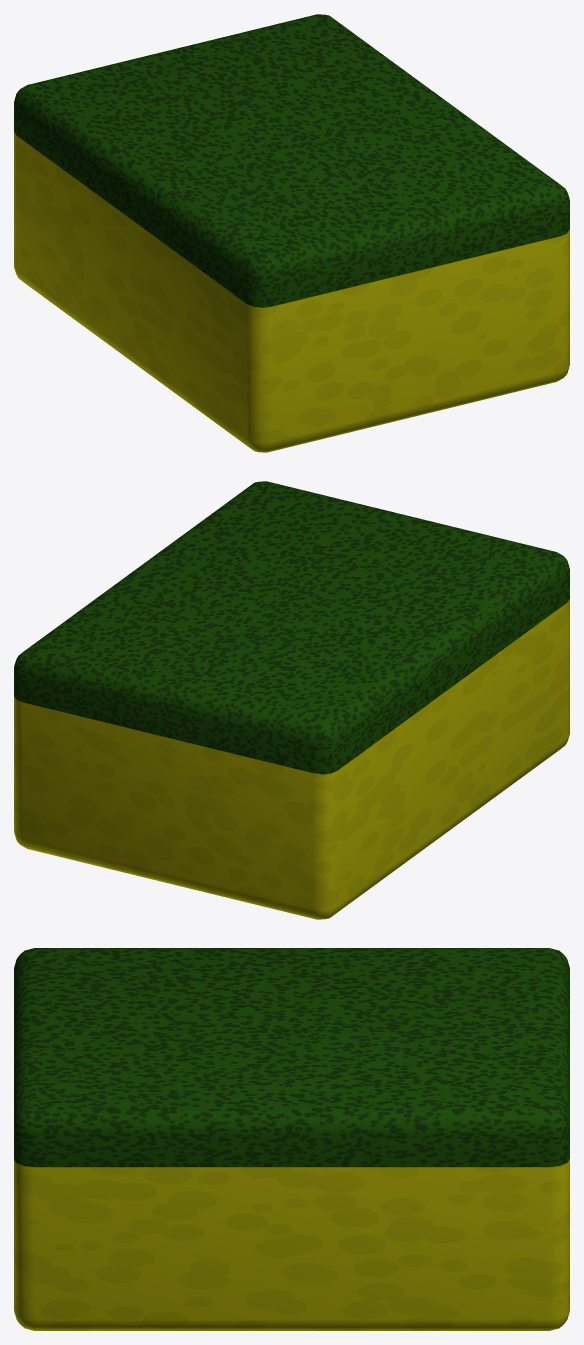
Rendered from GABKAfloat.fbx.
3 renders of one model, top to bottom at view 1: azimuth 30°, elevation 25°; view 2: azimuth 150°, elevation 25°; view 3: azimuth 270°, elevation 25°, orthographic. The views are drawn at different scales.
Visible parts, largest first — view 1: Cube.001; view 2: Cube.001; view 3: Cube.001.
Part boxes in pixels (x1,y1,x2,y2): Cube.001: (14, 14, 569, 452); Cube.001: (14, 481, 569, 919); Cube.001: (14, 948, 569, 1330).
Size of the model in its own units: 248 by 145 by 332.
Materials: 1 (1 with a texture image).
